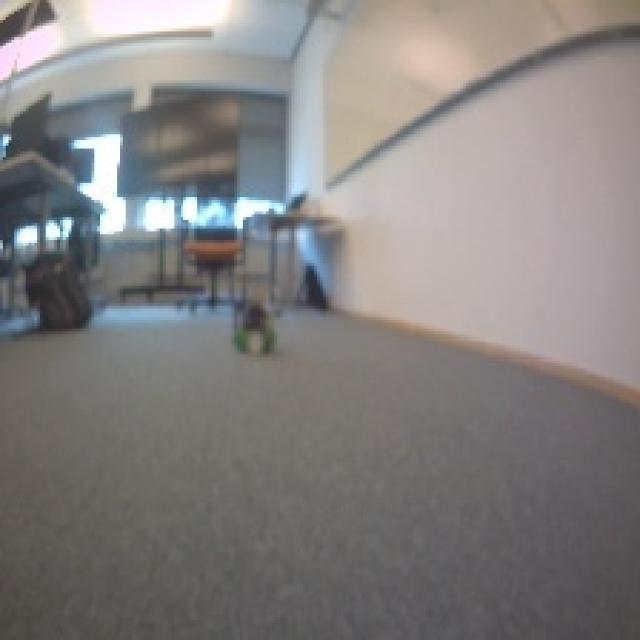robot: (229, 306, 280, 354)
